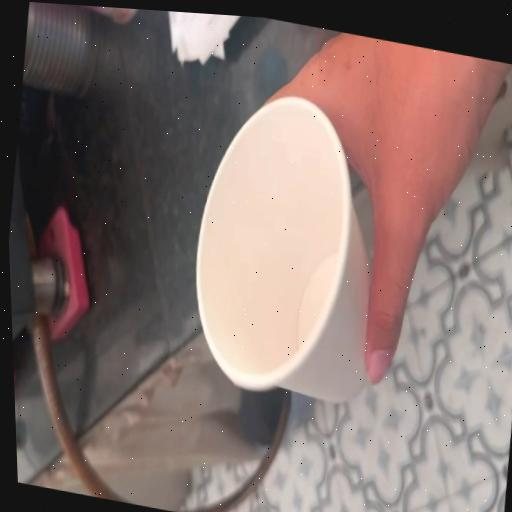Ly_giay: (197, 96, 369, 401)
